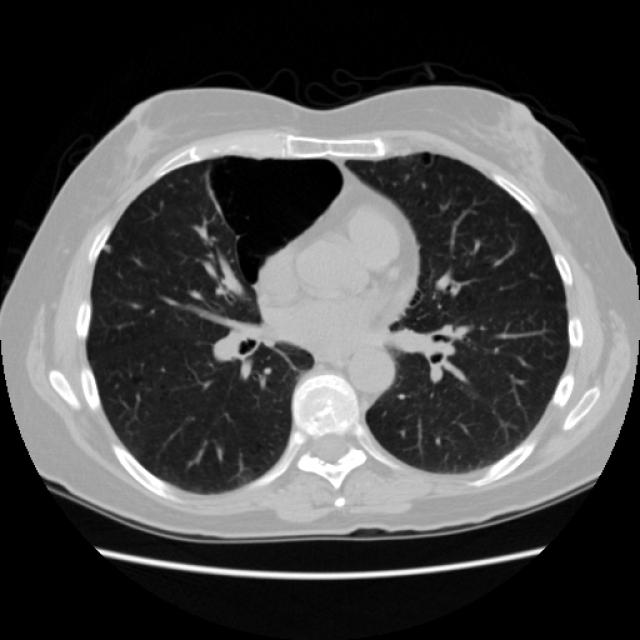nodule: (96, 236, 116, 256)
